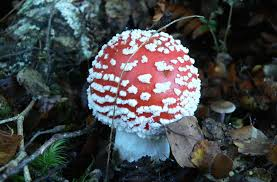Amanita muscaria: (78, 17, 203, 164)
